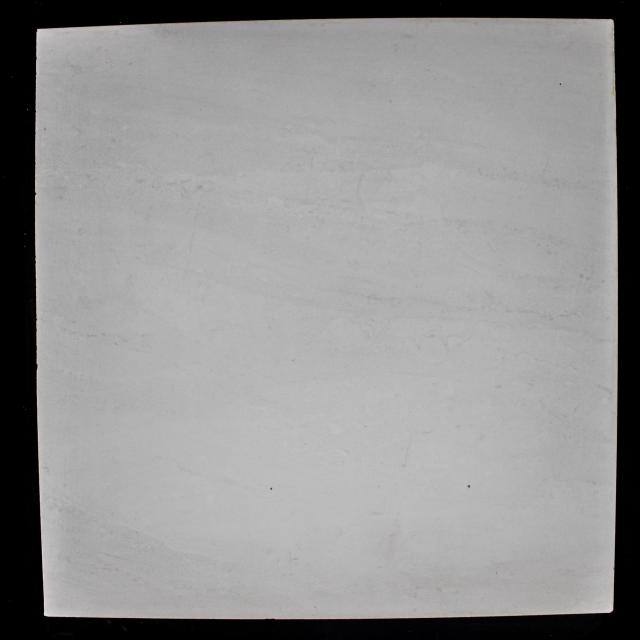hole: (269, 486, 273, 491), (467, 484, 471, 488), (558, 82, 562, 86)
